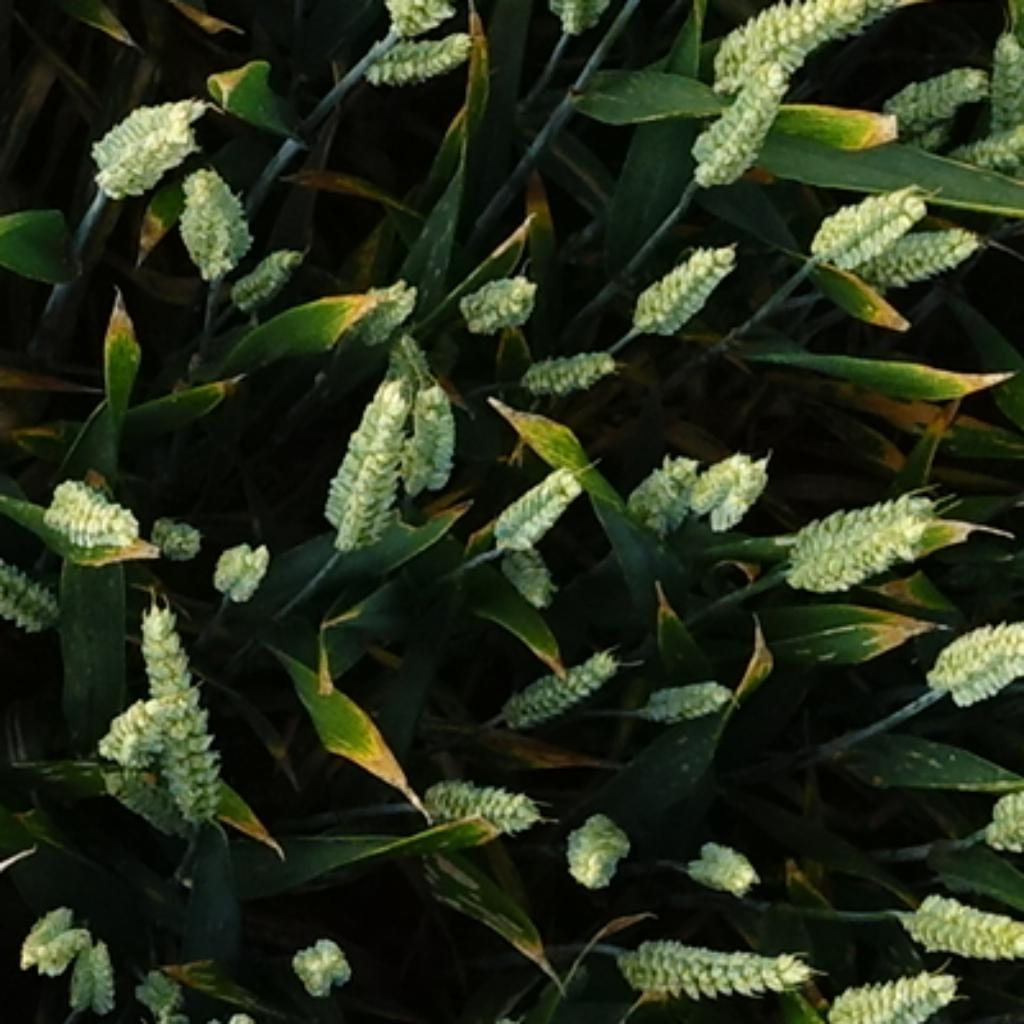0-0: (158, 662, 286, 836), (773, 473, 947, 593), (701, 2, 911, 94), (325, 368, 419, 547), (604, 921, 808, 1003), (678, 48, 798, 179), (798, 179, 954, 276), (79, 76, 204, 192), (824, 204, 993, 284), (488, 634, 629, 724), (622, 225, 742, 330), (94, 673, 199, 773), (38, 471, 150, 561), (483, 455, 588, 547), (919, 606, 1024, 698), (819, 957, 962, 1024), (168, 156, 253, 268), (407, 762, 540, 832), (130, 599, 207, 719), (900, 894, 1024, 968), (67, 761, 182, 840), (354, 22, 485, 89), (619, 440, 711, 527), (680, 451, 775, 535), (883, 53, 983, 128), (15, 893, 99, 975), (404, 368, 460, 488), (560, 809, 637, 894), (227, 232, 312, 309), (448, 256, 540, 327), (0, 557, 72, 646), (514, 330, 619, 391), (916, 133, 1024, 189), (634, 663, 737, 719), (975, 20, 1024, 130), (283, 932, 360, 1001), (340, 273, 417, 340), (689, 837, 768, 899), (500, 539, 566, 608), (66, 926, 117, 1008), (206, 542, 270, 606), (133, 950, 197, 1011), (147, 510, 208, 561), (540, 2, 614, 43), (981, 785, 1024, 853)
